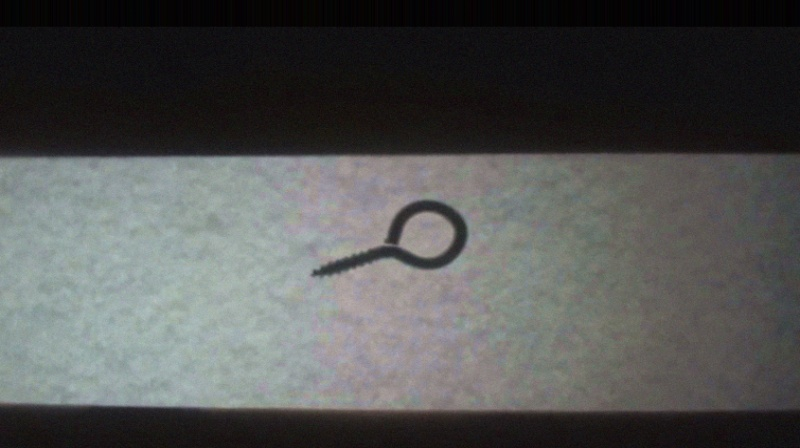O001: (307, 197, 472, 282)
